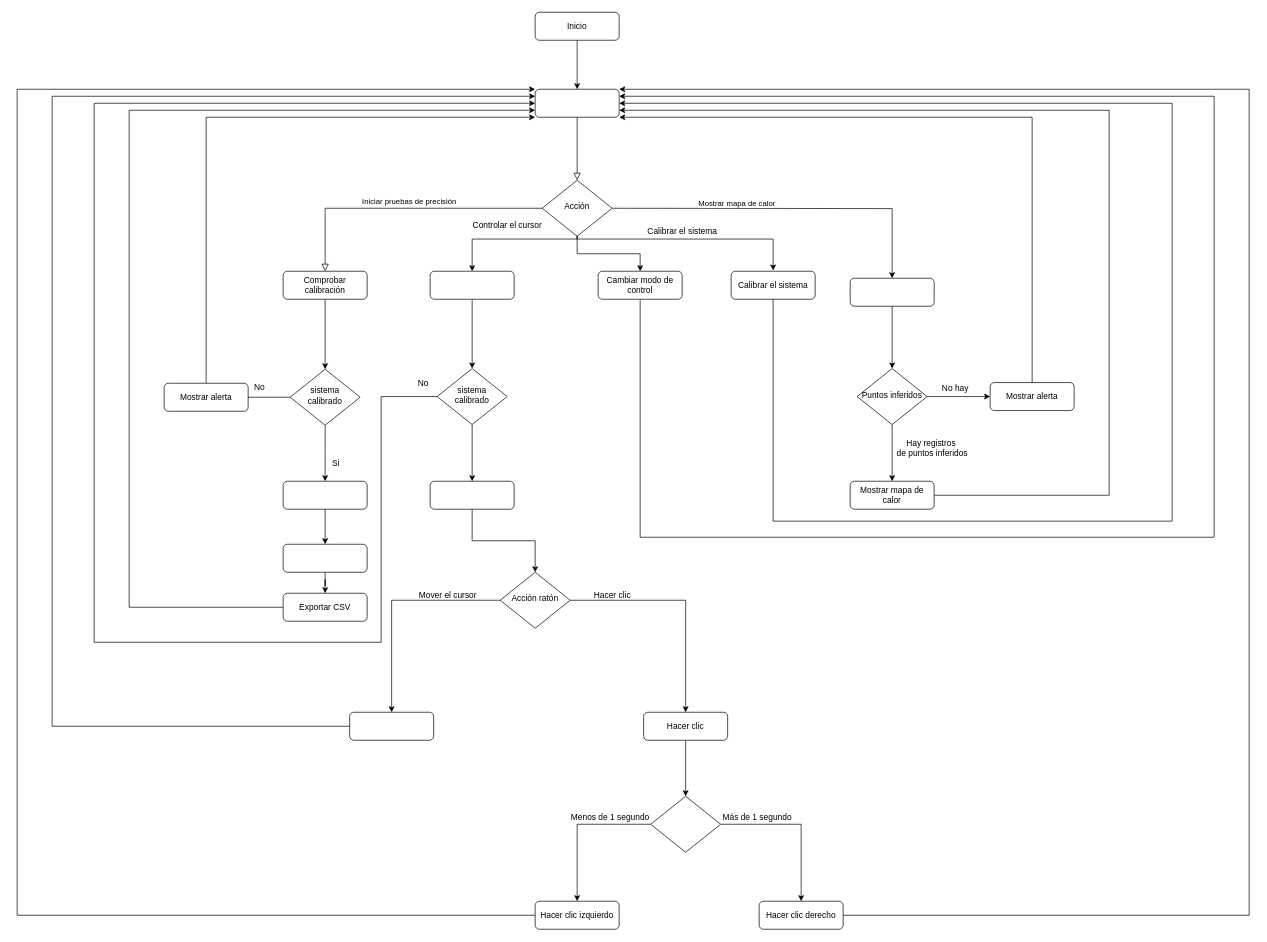
The diagram is 1267 pixels wide and 942 high, and some of its shapes have lost their labels. The centre of each missing label's shape, as x and y in pixels:
Comprobar facciones usuario: point 471,495
comprobar registros: point 891,292
Controlar cursor: point 471,285
Mover cursor: point 391,726
Pantalla principal: point 576,103
Realizar test de precisión: point 324,495
Registrar en BD: point 324,558
Tiempo ojo derecho cerrado: point 685,824
